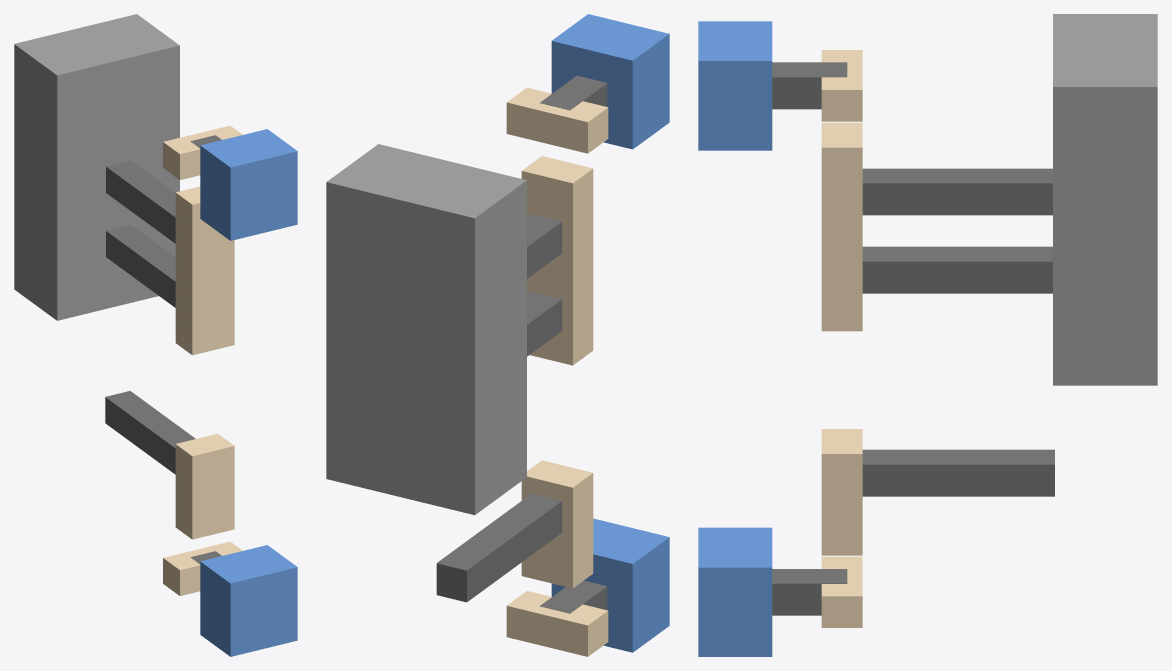
File: sky130_fd_sc_hd__tap_1.gds.gltf
The picture shows the model from 3 angles, left to right: view 1: azimuth 30°, elevation 25°; view 2: azimuth 150°, elevation 25°; view 3: azimuth 270°, elevation 25°; orthographic projection. The views are drawn at different scales.
Parts seen in each view (by area): view 1: sky130_fd_sc_hd__tap_1_nwell, sky130_fd_sc_hd__tap_1_met1, sky130_fd_sc_hd__tap_1_li1, sky130_fd_sc_hd__tap_1_licon; view 2: sky130_fd_sc_hd__tap_1_nwell, sky130_fd_sc_hd__tap_1_li1, sky130_fd_sc_hd__tap_1_met1, sky130_fd_sc_hd__tap_1_licon, sky130_fd_sc_hd__tap_1_mcon; view 3: sky130_fd_sc_hd__tap_1_nwell, sky130_fd_sc_hd__tap_1_licon, sky130_fd_sc_hd__tap_1_met1, sky130_fd_sc_hd__tap_1_li1, sky130_fd_sc_hd__tap_1_mcon.
Boxes of the visible parts, bbox=[...] form: sky130_fd_sc_hd__tap_1_nwell: bbox=[14, 14, 179, 320]; sky130_fd_sc_hd__tap_1_met1: bbox=[200, 129, 297, 656]; sky130_fd_sc_hd__tap_1_li1: bbox=[163, 125, 242, 595]; sky130_fd_sc_hd__tap_1_licon: bbox=[105, 160, 195, 474]; sky130_fd_sc_hd__tap_1_nwell: bbox=[326, 144, 526, 515]; sky130_fd_sc_hd__tap_1_li1: bbox=[506, 87, 608, 656]; sky130_fd_sc_hd__tap_1_met1: bbox=[551, 14, 669, 652]; sky130_fd_sc_hd__tap_1_licon: bbox=[436, 214, 562, 602]; sky130_fd_sc_hd__tap_1_mcon: bbox=[540, 75, 607, 613]; sky130_fd_sc_hd__tap_1_nwell: bbox=[1053, 14, 1157, 385]; sky130_fd_sc_hd__tap_1_licon: bbox=[862, 168, 1054, 496]; sky130_fd_sc_hd__tap_1_met1: bbox=[698, 21, 772, 656]; sky130_fd_sc_hd__tap_1_li1: bbox=[821, 50, 862, 627]; sky130_fd_sc_hd__tap_1_mcon: bbox=[772, 62, 847, 615].
Bounding box in the file's own units: 0.84 × 3.2 × 2.24.
